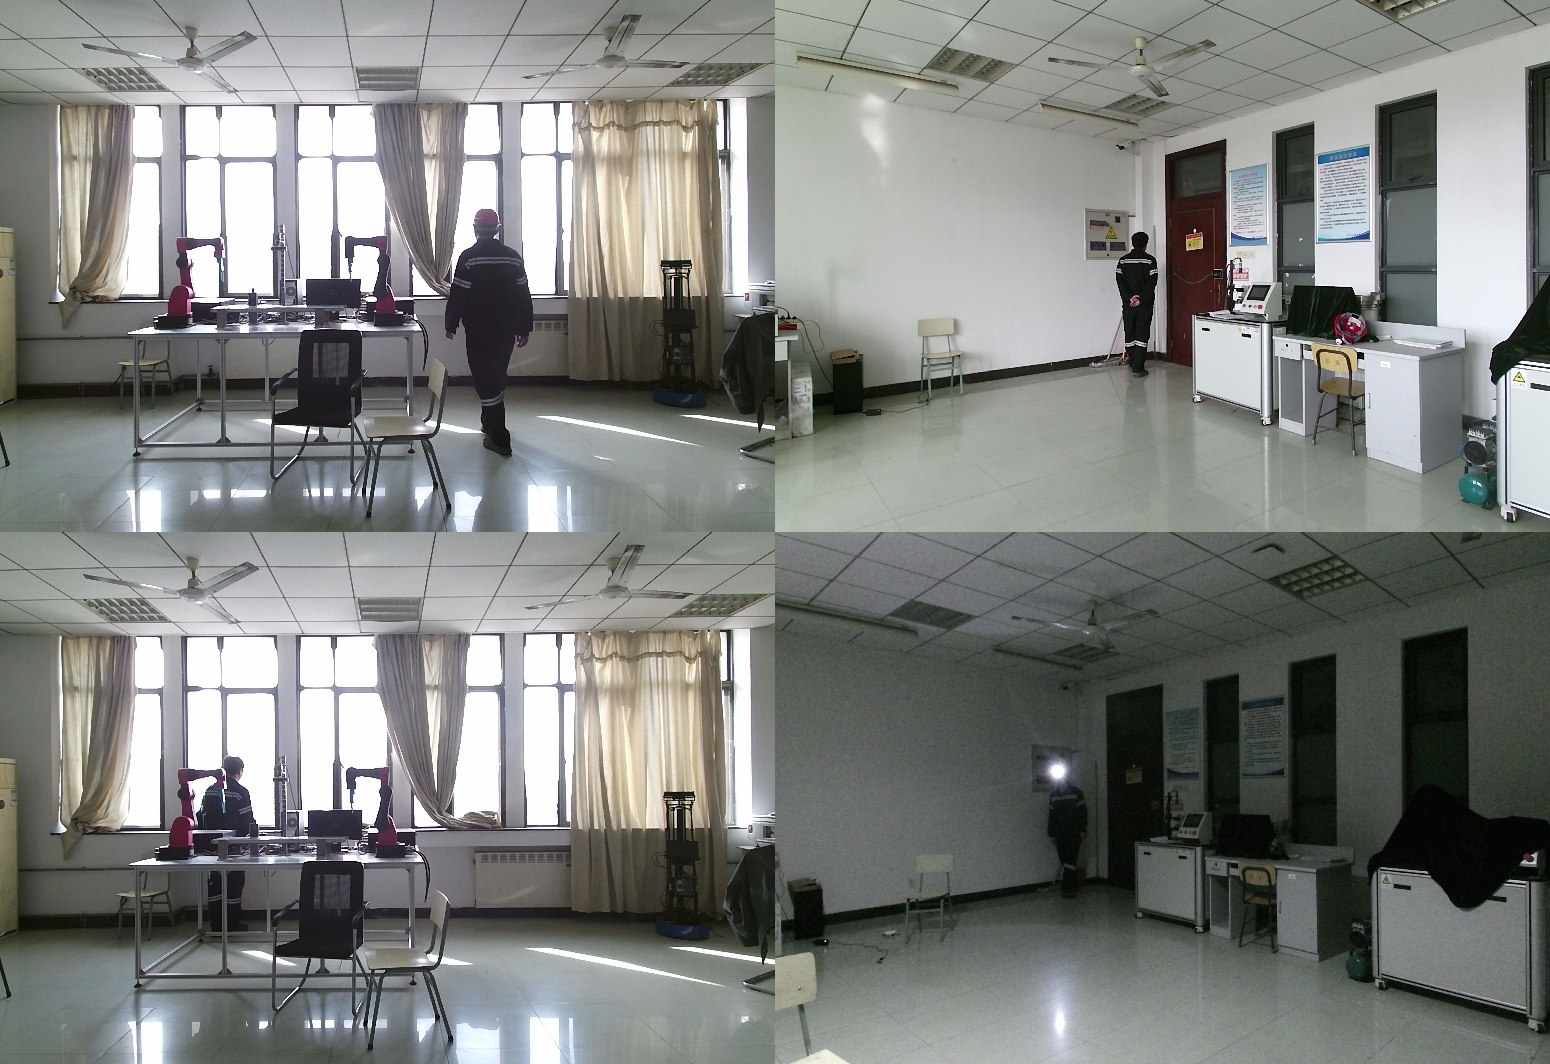person: (449, 206, 541, 457), (198, 760, 254, 949), (1115, 233, 1165, 381), (1040, 769, 1088, 899)
